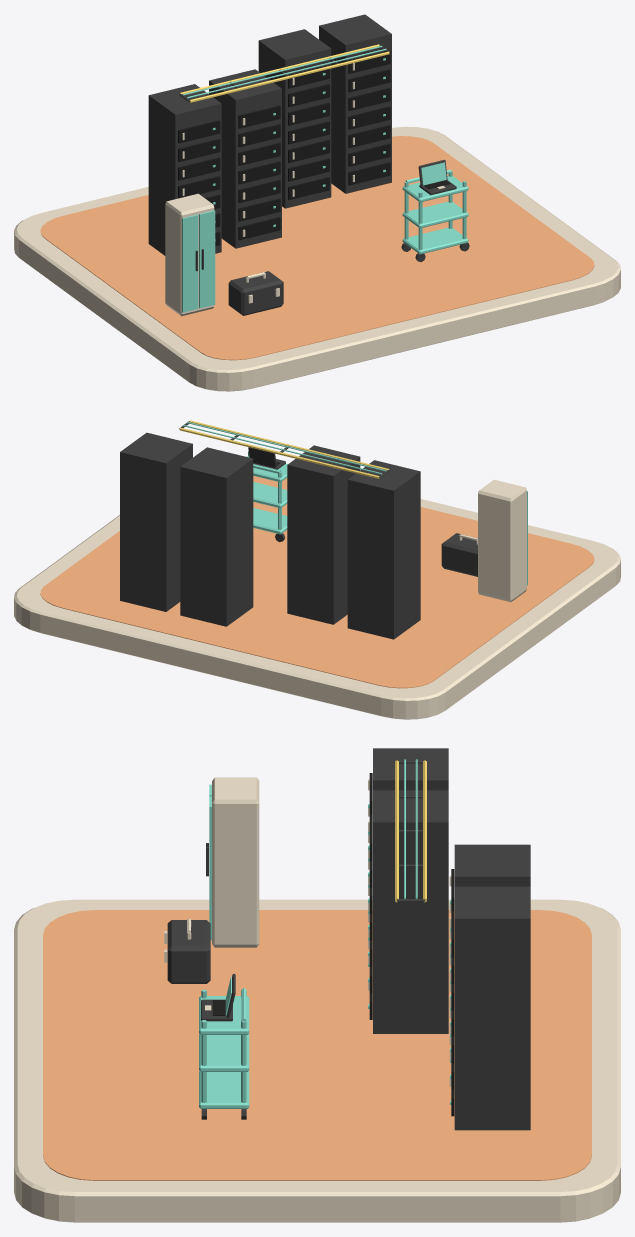
The model's file is room.fbx.
3 renders of one model, top to bottom at view 1: azimuth 30°, elevation 25°; view 2: azimuth 150°, elevation 25°; view 3: azimuth 270°, elevation 25°, orthographic. The views are drawn at different scales.
Parts seen in each view (by area): view 1: COM-02 Floor Surface, COM-01 Rounded Base Direct, Server case, Server case.003, Server case.001, Server case.002, Equipment case, Case, Door, Door.001, Tray, Tray.001 (+26 smaller); view 2: COM-02 Floor Surface, COM-01 Rounded Base Direct, Server case.002, Server case, Server case.003, Server case.001, Equipment case, Case, Cable rail.001, Tray, Tray.001, Cable rail (+2 smaller); view 3: COM-02 Floor Surface, COM-01 Rounded Base Direct, Server case.003, Server case.001, Equipment case, Server case.002, Server case, Case, Tray.001, Tray, Tray.002.
Part boxes in pixels (<box>): COM-02 Floor Surface: <box>40,136,594,360</box>; COM-01 Rounded Base Direct: <box>14,126,620,391</box>; Server case: <box>148,84,221,255</box>; Server case.003: <box>319,14,391,193</box>; Server case.001: <box>209,69,281,248</box>; Server case.002: <box>258,29,331,208</box>; Equipment case: <box>165,193,214,316</box>; Case: <box>228,271,283,315</box>; Door: <box>182,214,198,312</box>; Door.001: <box>199,210,215,308</box>; Tray: <box>402,227,468,254</box>; Tray.001: <box>402,201,468,228</box>; COM-02 Floor Surface: <box>40,476,594,688</box>; COM-01 Rounded Base Direct: <box>14,456,620,719</box>; Server case.002: <box>180,447,253,626</box>; Server case: <box>347,460,420,639</box>; Server case.003: <box>120,432,192,611</box>; Server case.001: <box>287,445,360,624</box>; Equipment case: <box>478,479,526,602</box>; Case: <box>441,533,477,576</box>; Cable rail.001: <box>179,427,379,478</box>; Tray: <box>253,508,287,534</box>; Tray.001: <box>253,482,287,508</box>; Cable rail: <box>189,420,389,470</box>; COM-02 Floor Surface: <box>43,910,591,1180</box>; COM-01 Rounded Base Direct: <box>14,899,620,1222</box>; Server case.003: <box>454,886,530,1130</box>; Server case.001: <box>373,790,448,1033</box>; Equipment case: <box>212,777,259,947</box>; Server case.002: <box>454,844,530,886</box>; Server case: <box>373,748,448,790</box>; Case: <box>167,920,210,983</box>; Tray.001: <box>199,1034,249,1071</box>; Tray: <box>199,1071,249,1108</box>; Tray.002: <box>199,996,249,1034</box>.
Bounding box in the file's own units: 600 × 235 × 520.
